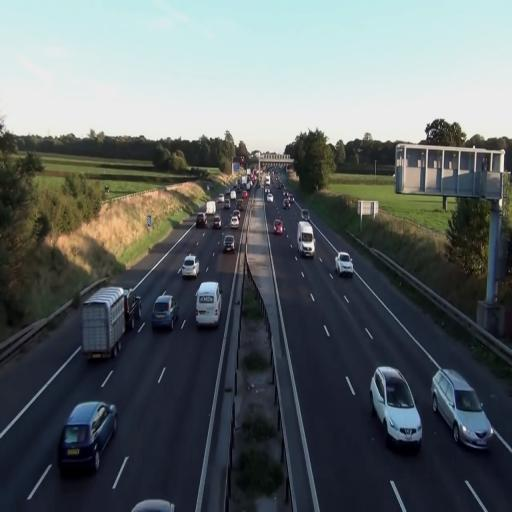vehicle: (431, 366, 494, 451), (370, 365, 423, 453), (59, 400, 117, 473), (81, 286, 127, 362), (194, 280, 222, 328), (151, 293, 179, 331), (122, 288, 142, 330), (296, 220, 316, 256), (180, 253, 200, 280), (336, 252, 354, 276), (222, 232, 236, 254), (273, 217, 284, 235)
